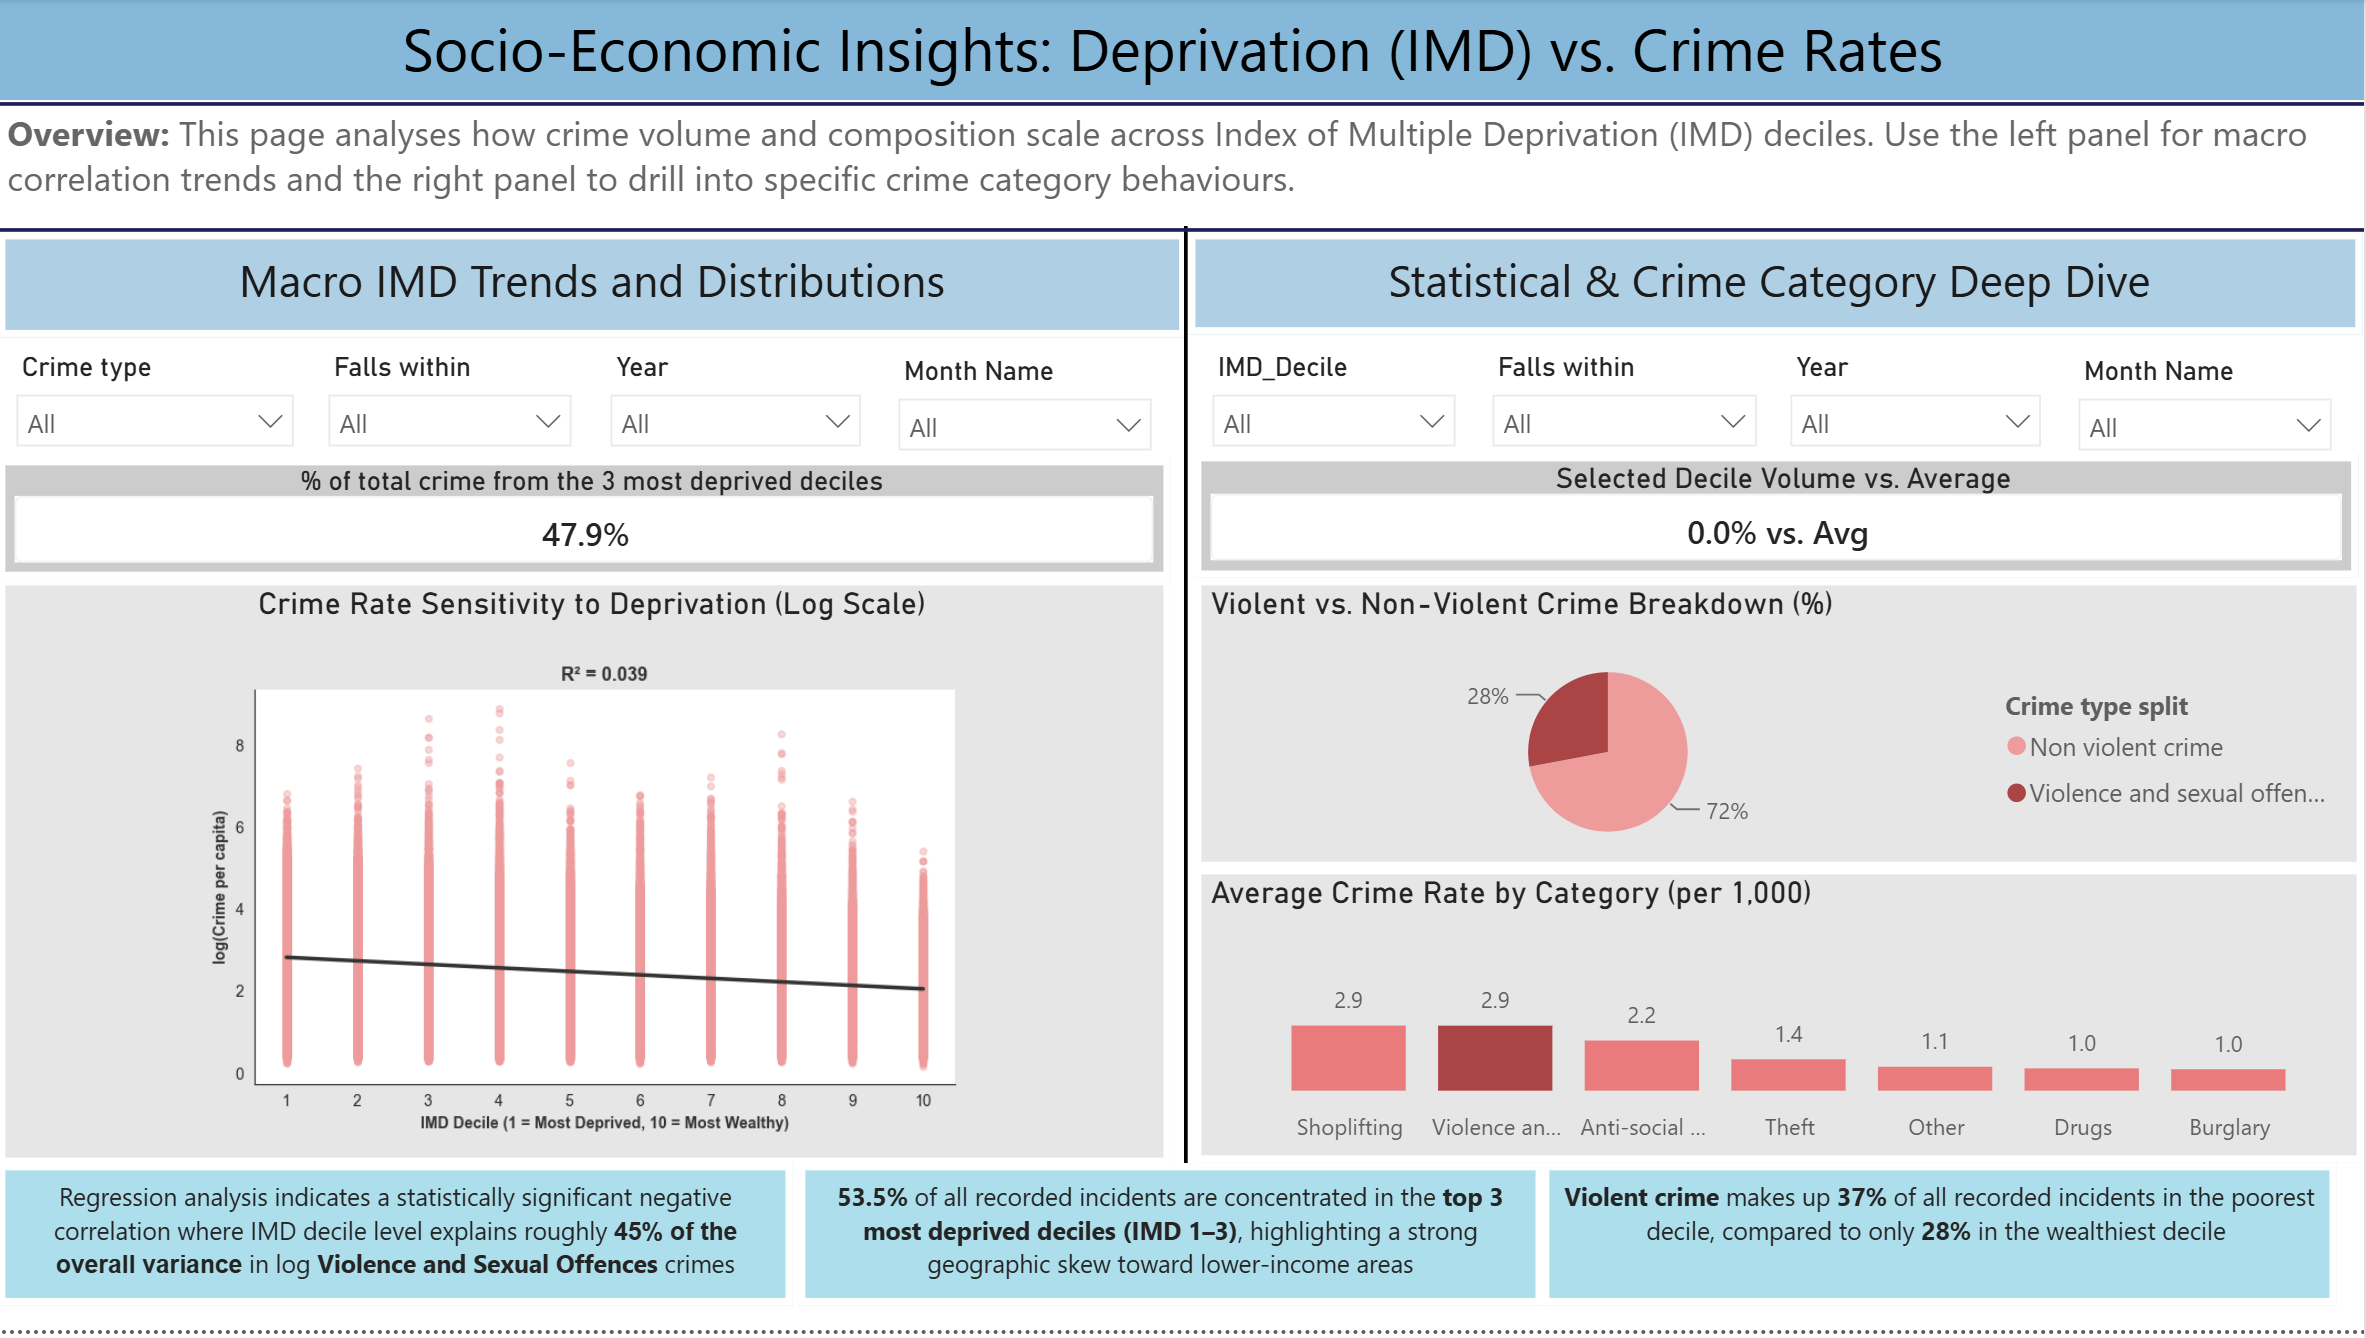

Layout of this report page (visuals, bound fields, positions):
{"tool":"powerbi","page":{"name":"Socioeconomic breakdown","canvas":[1280,720],"ordinal":2},"visuals":[{"type":"textbox","box":[0,0,1280,55.7],"z":0},{"type":"pythonVisual","title":"Crime Rate Sensitivity to Deprivation (Log Scale)","fields":{"Values":["LSOA.IMD_Decile","Sum(LSOA.rate per 1000)","LSOA.Crime type","LSOA.Falls within","LSOA.LSOA code"]},"box":[0,313.6,634.3,317.1],"z":1000},{"type":"slicer","fields":{"Values":["LSOA.Crime type"]},"box":[0,186.4,170,61.4],"z":2000},{"type":"slicer","fields":{"Values":["LSOA.IMD_Decile"]},"box":[647.1,186.4,151.4,60],"z":3000},{"type":"cardVisual","title":"Selected Decile Volume vs. Average","fields":{"Data":["LSOA.RHS Decile Rate Variance"]},"box":[647.1,247.1,630,67.1],"z":4000},{"type":"textbox","box":[0,126.4,642.9,57.1],"z":5000},{"type":"textbox","box":[644.3,126.4,635.7,55.7],"z":6000},{"type":"pieChart","title":"Violent vs. Non-Violent Crime Breakdown (%)","fields":{"Category":["LSOA.Crime type split"],"Y":["Divide(Sum(LSOA.rate per 1000), ScopedEval(Sum(LSOA.rate per 1000), []))"]},"box":[647.1,313.6,632.9,157.1],"z":7000},{"type":"clusteredColumnChart","title":"Average Crime Rate by Category (per 1,000)","fields":{"Y":["Avg(LSOA.rate per 1000)"],"Category":["LSOA.Crime type with other"]},"box":[647.1,470,632.9,160],"z":8000},{"type":"shape","box":[634.3,122.9,17.1,507.1],"z":9000},{"type":"slicer","fields":{"Values":["LSOA.Falls within"]},"box":[168.6,186.4,151.4,60],"z":10000},{"type":"slicer","fields":{"Values":["LSOA.Year"]},"box":[321.4,186.4,155.7,60],"z":11000},{"type":"slicer","fields":{"Values":["LSOA.Month Name"]},"box":[477.1,187.9,157.1,60],"z":12000},{"type":"slicer","fields":{"Values":["LSOA.Falls within"]},"box":[798.6,186.4,162.9,60],"z":13000},{"type":"slicer","fields":{"Values":["LSOA.Year"]},"box":[960,186.4,155.7,60],"z":14000},{"type":"slicer","fields":{"Values":["LSOA.Month Name"]},"box":[1115.7,187.9,157.1,60],"z":15000},{"type":"cardVisual","title":"% of total crime from the 3 most deprived deciles","fields":{"Data":["LSOA.Share From Deprived Areas"]},"box":[0,248.6,634.3,65.7],"z":16000},{"type":"shape","box":[0,122.9,1280,4.3],"z":17000},{"type":"textbox","box":[0,55.7,1280,67.1],"z":18000},{"type":"shape","box":[0,55.7,1280,4.3],"z":19000},{"type":"textbox","box":[0,630,430,77.1],"z":20000},{"type":"textbox","box":[432.9,630,402.9,77.1],"z":21000},{"type":"textbox","box":[835.7,630,430,77.1],"z":22000}]}

Visuals, with their boxes in screenshot pixels (x1, y1, x2, y2), scaled from the page's 1280x720 canvas onto the 2366x1338 screenshot:
textbox: crop(0, 0, 2365, 104)
"Crime Rate Sensitivity to Deprivation (Log Scale)" pythonVisual: crop(0, 583, 1172, 1172)
slicer - LSOA.Crime type: crop(0, 346, 314, 460)
slicer - LSOA.IMD_Decile: crop(1196, 346, 1476, 458)
"Selected Decile Volume vs. Average" cardVisual: crop(1196, 459, 2361, 584)
textbox: crop(0, 235, 1188, 341)
textbox: crop(1191, 235, 2365, 338)
"Violent vs. Non-Violent Crime Breakdown (%)" pieChart: crop(1196, 583, 2365, 875)
"Average Crime Rate by Category (per 1,000)" clusteredColumnChart: crop(1196, 873, 2365, 1171)
shape: crop(1172, 228, 1204, 1171)
slicer - LSOA.Falls within: crop(312, 346, 592, 458)
slicer - LSOA.Year: crop(594, 346, 882, 458)
slicer - LSOA.Month Name: crop(882, 349, 1172, 461)
slicer - LSOA.Falls within: crop(1476, 346, 1777, 458)
slicer - LSOA.Year: crop(1774, 346, 2062, 458)
slicer - LSOA.Month Name: crop(2062, 349, 2353, 461)
"% of total crime from the 3 most deprived deciles" cardVisual: crop(0, 462, 1172, 584)
shape: crop(0, 228, 2365, 236)
textbox: crop(0, 104, 2365, 228)
shape: crop(0, 104, 2365, 112)
textbox: crop(0, 1171, 795, 1314)
textbox: crop(800, 1171, 1545, 1314)
textbox: crop(1545, 1171, 2340, 1314)
